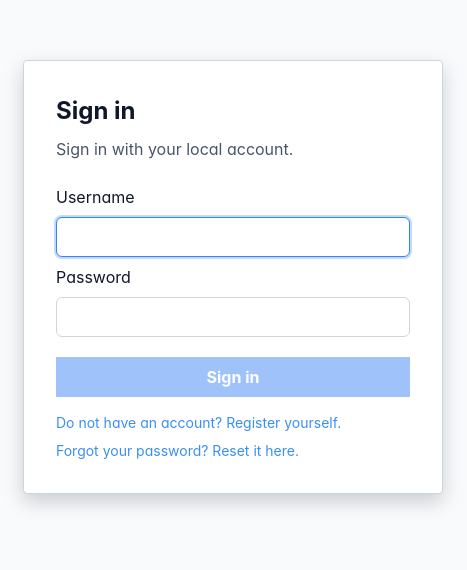
LoginPage › shows a generic error without disclosing the account state.
Type "alice" into the field labelled "Username".
click(233, 237); type("alice")  # box [56,217,410,257]
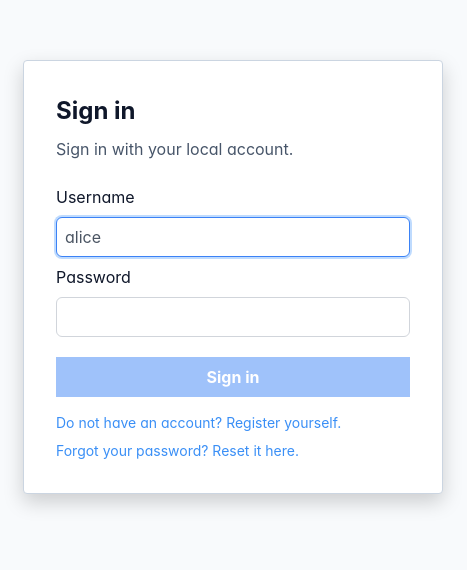
Type "wrong-password" into the password field labelled "Password".
click(233, 317); type("wrong-password")  # box [56,297,410,337]
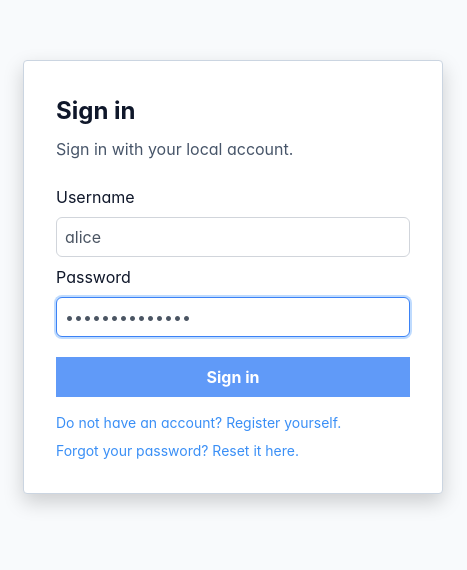
Click the button "Sign in".
click(233, 377)  # box [56,357,410,397]
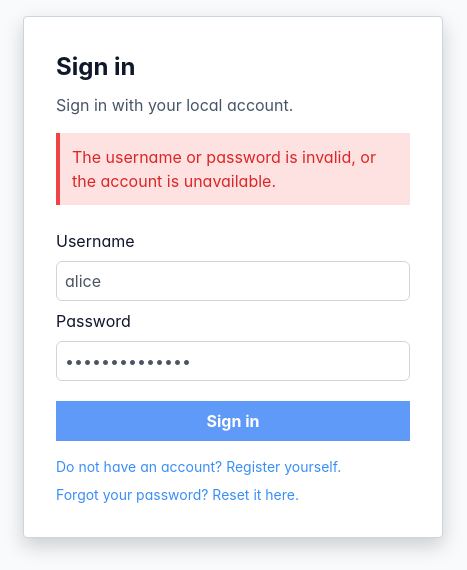
Check: the message reads "The username or password is invalid, or the account is unavailable.", box [72,147,376,191]
